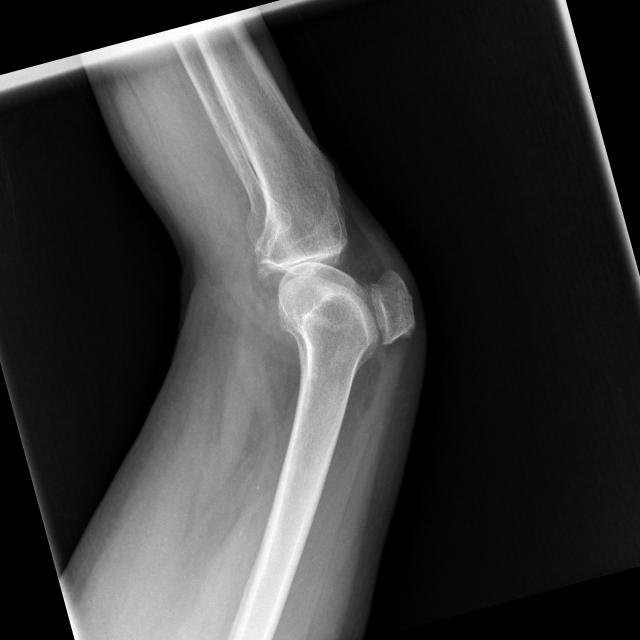Knee: (247, 186, 426, 377)
